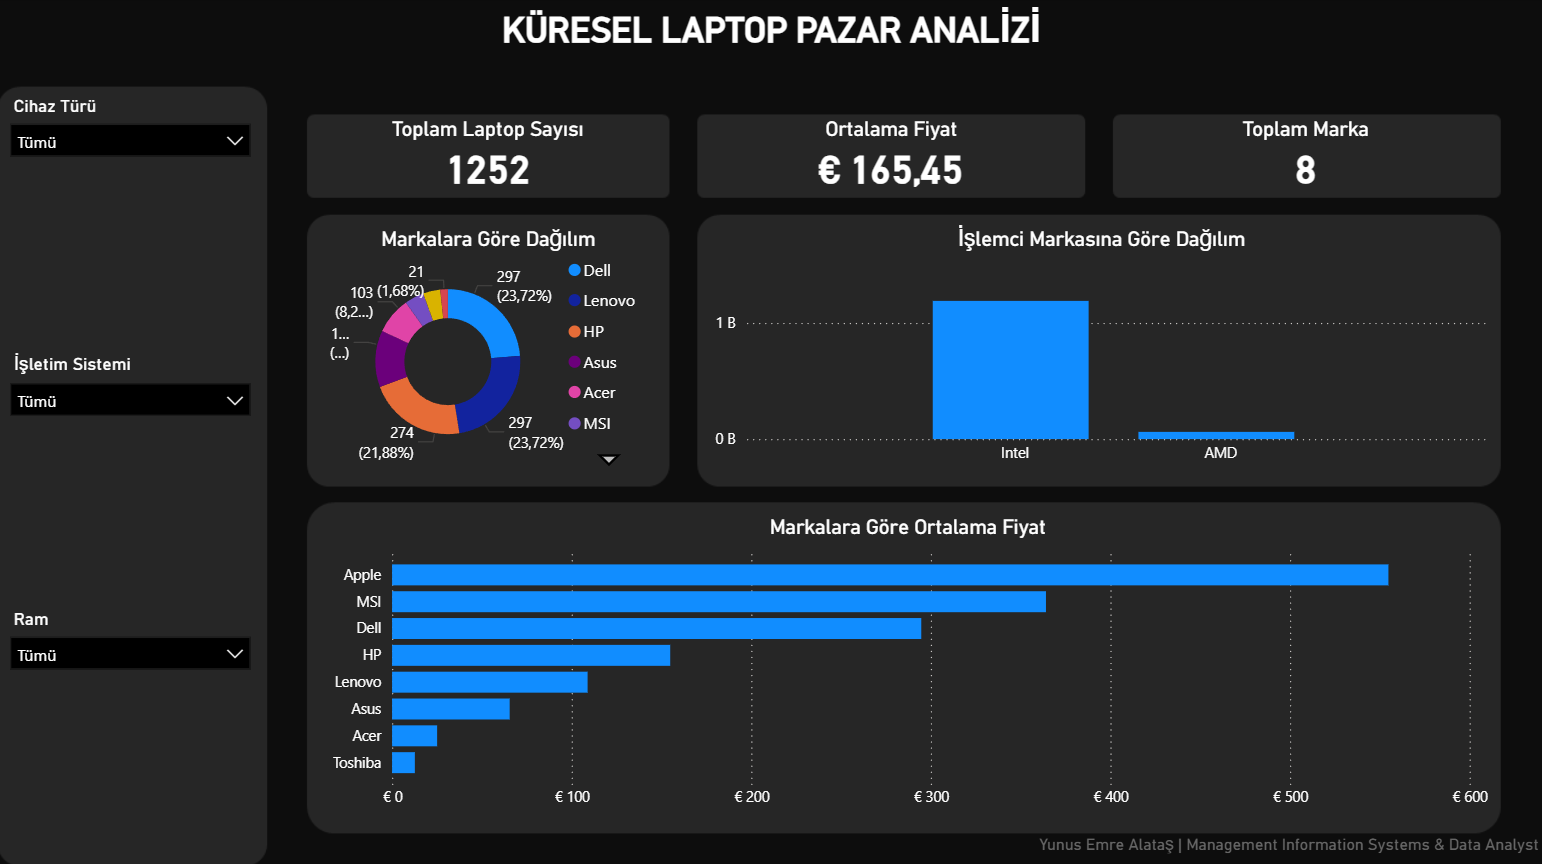

Layout of this report page (visuals, bound fields, positions):
{"tool":"powerbi","page":{"name":"Pazar Analizi","canvas":[1280,720],"ordinal":0},"visuals":[{"type":"card","title":"Toplam Laptop Sayısı","fields":{"Values":["CountNonNull(Laptop_Verileri.Urun_Modeli)"]},"box":[257.8,98.2,295.7,63.2],"z":0},{"type":"card","title":"Ortalama Fiyat","fields":{"Values":["Laptop_Verileri.Ortalama_Fiyat"]},"box":[581.6,98.2,315.1,63.2],"z":1000},{"type":"card","title":"Toplam Marka","fields":{"Values":["Count(Laptop_Verileri.Marka)"]},"box":[926,98.2,312.2,63.2],"z":2000},{"type":"donutChart","title":"Markalara Göre Dağılım","fields":{"Category":["Laptop_Verileri.Marka"],"Y":["CountNonNull(Laptop_Verileri.Urun_Modeli)"]},"box":[268.4,187.7,275.3,207.2],"z":3000},{"type":"columnChart","title":"İşlemci Markasına Göre Dağılım","fields":{"Category":["Laptop_Verileri.İşlemci_Markası"],"Y":["CountNonNull(Laptop_Verileri.Urun_Modeli)"]},"box":[588.4,187.7,649.7,207.2],"z":4000},{"type":"barChart","title":"Markalara Göre Ortalama Fiyat","fields":{"Category":["Laptop_Verileri.Marka"],"Y":["Laptop_Verileri.Ortalama_Fiyat"]},"box":[268.4,428,969.7,251.9],"z":5000},{"type":"slicer","fields":{"Values":["Laptop_Verileri.Ram"]},"box":[0,500.9,218.8,212],"z":6000},{"type":"textbox","title":"KÜRESEL LAPTOP PAZAR ANALİZİ","box":[143,7.8,994,60.3],"z":7000},{"type":"slicer","fields":{"Values":["Laptop_Verileri.Isletim_Sistemi"]},"box":[0,288.9,218.8,212],"z":8000},{"type":"slicer","fields":{"Values":["Laptop_Verileri.Cihaz_Turu"]},"box":[0,75.9,218.8,212],"z":9000},{"type":"textbox","title":"Yunus Emre Alataş | Management Information Systems & Data Analyst","box":[753.8,691.6,526.2,21.4],"z":10000}]}

Visuals, with their boxes in screenshot pixels (x1, y1, x2, y2), scaled from the page's 1280x720 canvas onto the 1542x864 screenshot:
"Toplam Laptop Sayısı" card: box(311, 118, 667, 194)
"Ortalama Fiyat" card: box(701, 118, 1080, 194)
"Toplam Marka" card: box(1116, 118, 1492, 194)
"Markalara Göre Dağılım" donutChart: box(323, 225, 655, 474)
"İşlemci Markasına Göre Dağılım" columnChart: box(709, 225, 1492, 474)
"Markalara Göre Ortalama Fiyat" barChart: box(323, 514, 1492, 816)
slicer - Laptop_Verileri.Ram: box(0, 601, 264, 855)
"KÜRESEL LAPTOP PAZAR ANALİZİ" textbox: box(172, 9, 1370, 82)
slicer - Laptop_Verileri.Isletim_Sistemi: box(0, 347, 264, 601)
slicer - Laptop_Verileri.Cihaz_Turu: box(0, 91, 264, 345)
"Yunus Emre Alataş | Management Information Systems & Data Analyst" textbox: box(908, 830, 1541, 856)
